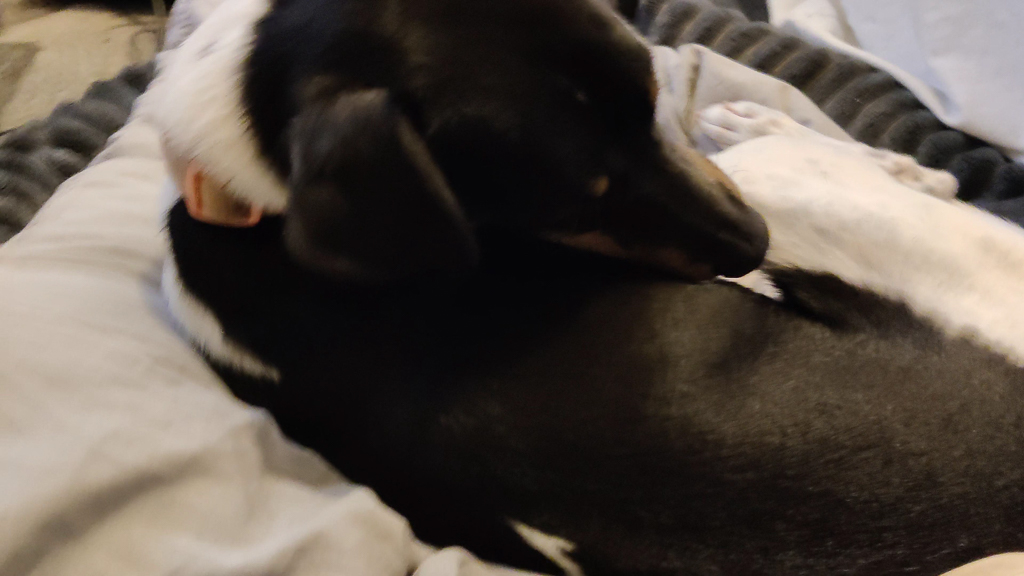Dog: (143, 0, 1024, 576)
